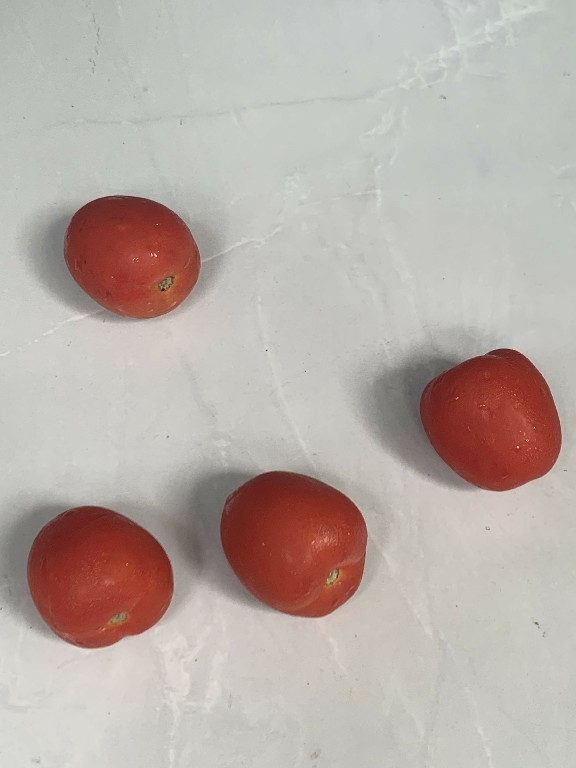OK: (213, 464, 374, 629), (415, 344, 568, 506), (25, 506, 181, 652), (59, 185, 215, 326)
